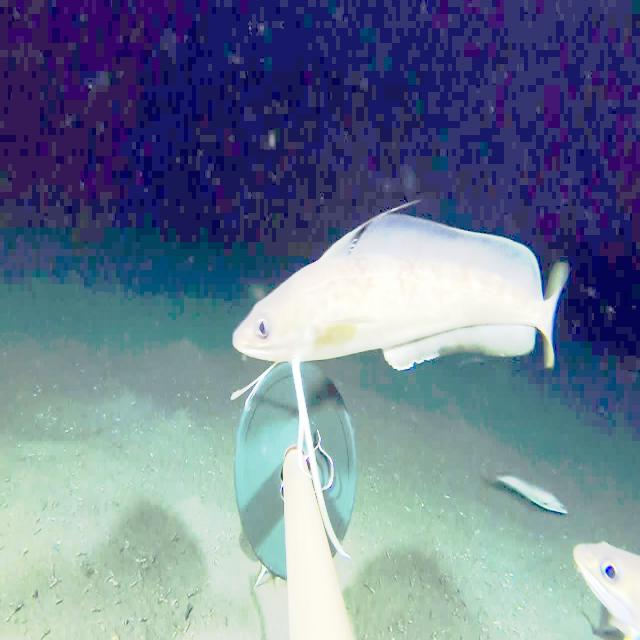fish: (229, 185, 581, 565), (559, 502, 629, 636), (489, 456, 571, 520)
pole: (229, 364, 360, 639)
